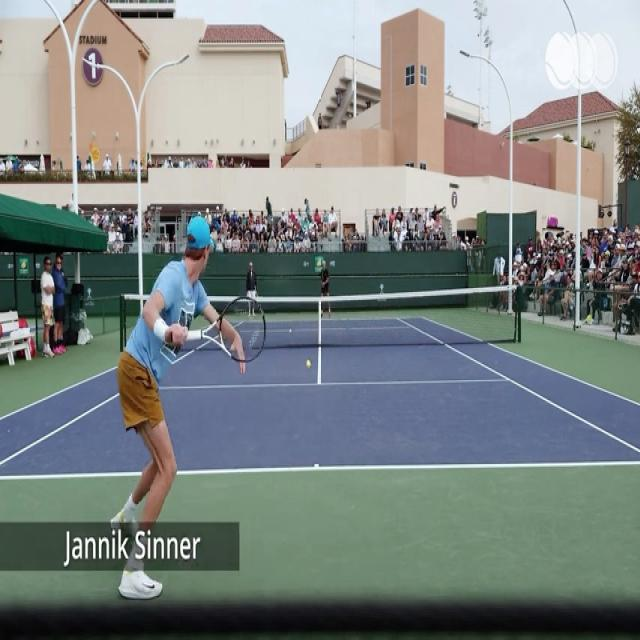forehand-ready: (108, 217, 266, 594)
